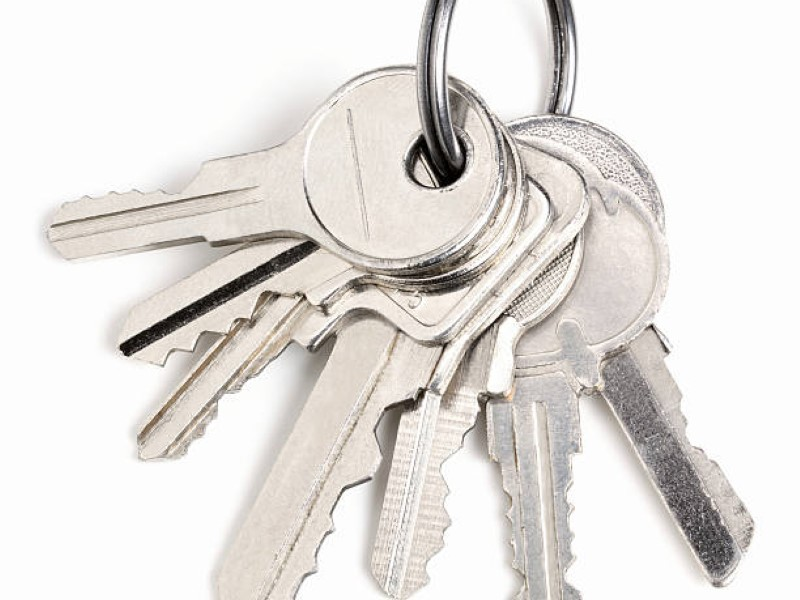key: (40, 56, 762, 599)
